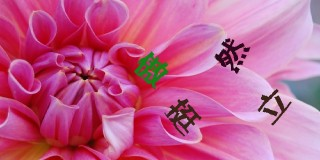傲: (134, 50, 169, 89)
挺: (166, 98, 202, 136)
然: (214, 38, 250, 73)
立: (257, 89, 292, 126)
